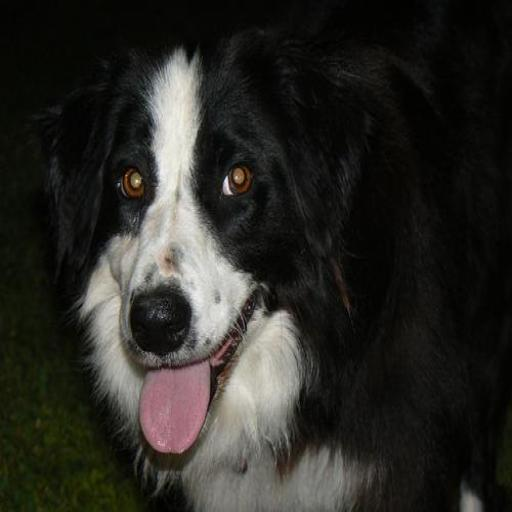dog_face: (44, 40, 347, 457)
